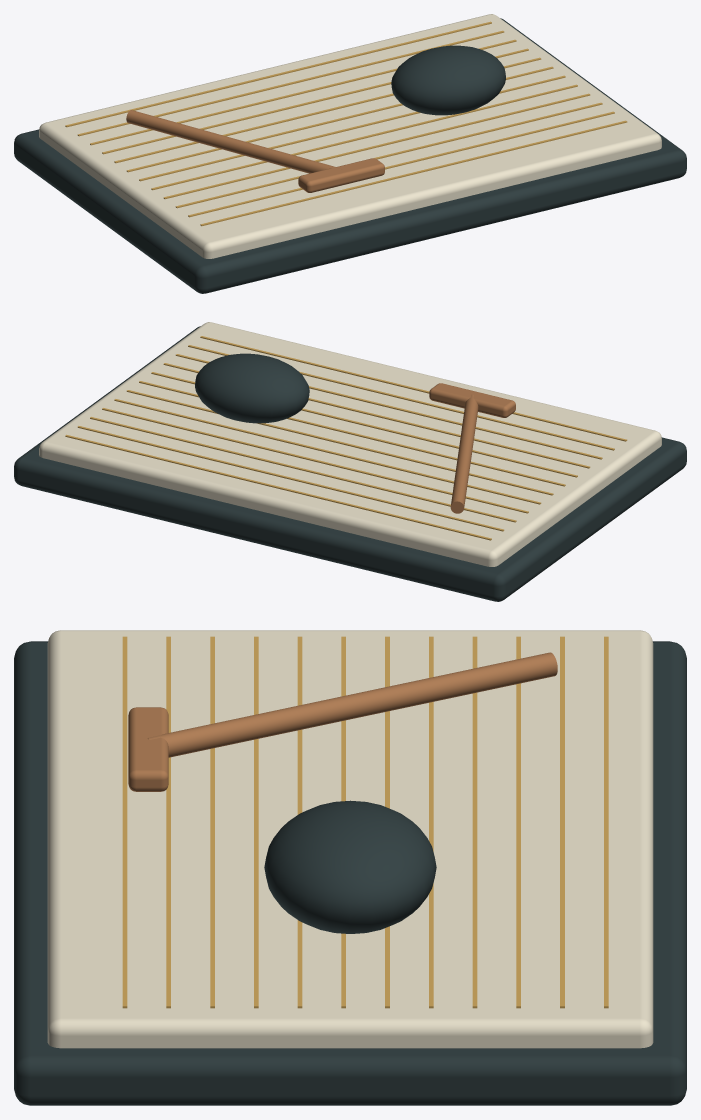
The model's file is sand-garden.glb.
3 renders of one model, top to bottom at view 1: azimuth 30°, elevation 25°; view 2: azimuth 150°, elevation 25°; view 3: azimuth 270°, elevation 25°, orthographic. The views are drawn at different scales.
Visible parts, largest first — view 1: sand-garden; view 2: sand-garden; view 3: sand-garden.
Boxes of the visible parts, left/top/right/bottom form: sand-garden: left=14, top=14, right=686, bottom=293; sand-garden: left=14, top=322, right=686, bottom=601; sand-garden: left=14, top=630, right=686, bottom=1105.
Size of the model in its own units: 1.5 by 0.27 by 1.
